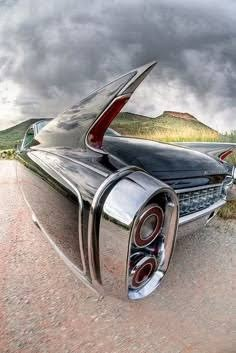car: (9, 54, 232, 303)
